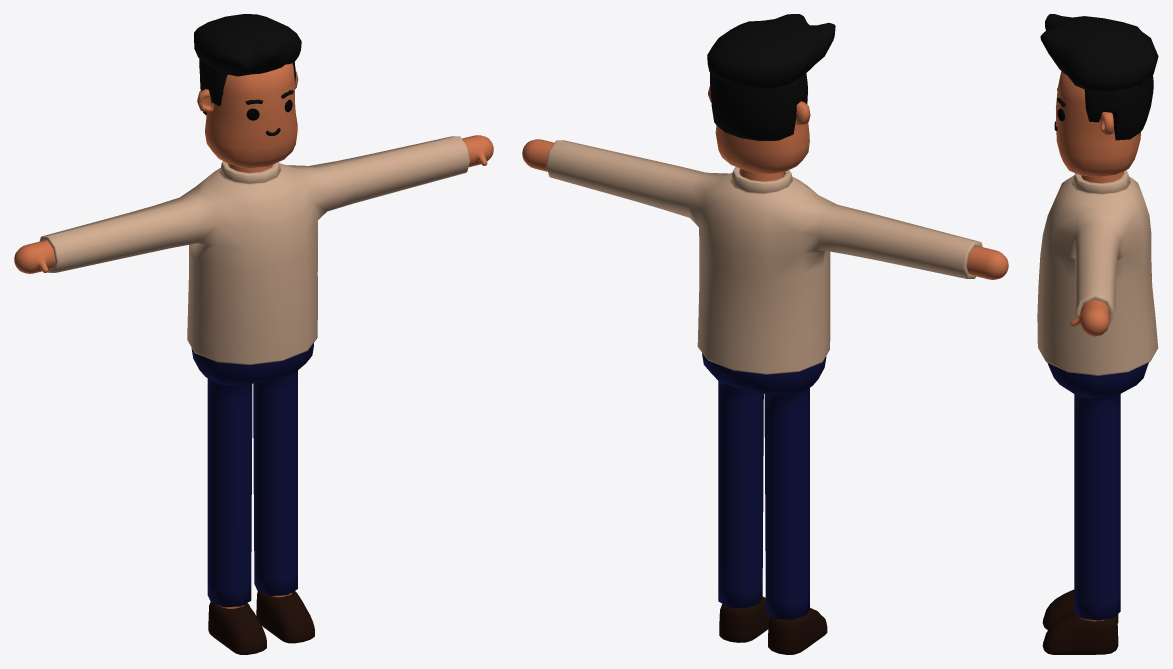
Rendered from male.obj.
3 renders of one model, left to right at view 1: azimuth 30°, elevation 25°; view 2: azimuth 150°, elevation 25°; view 3: azimuth 270°, elevation 25°, orthographic.
Parts seen in each view (by area): view 1: Char_Tshirt, Char_Pant, Char_Head, Char_Hair, Char_Shoe_R, Char_Shoe_L, Char_Hand_R, Char_Hand_L; view 2: Char_Tshirt, Char_Pant, Char_Hair, Char_Head, Char_Shoe_R, Char_Shoe_L, Char_Hand_R, Char_Hand_L; view 3: Char_Tshirt, Char_Pant, Char_Hair, Char_Head, Char_Shoe_L, Char_Hand_L, Char_Shoe_R.
Part boxes in pixels (x1=…): Char_Tshirt: x1=39, y1=136, x2=469, y2=364; Char_Pant: x1=191, y1=343, x2=313, y2=607; Char_Head: x1=197, y1=63, x2=298, y2=172; Char_Hair: x1=194, y1=14, x2=301, y2=114; Char_Shoe_R: x1=208, y1=602, x2=266, y2=654; Char_Shoe_L: x1=256, y1=591, x2=314, y2=643; Char_Hand_R: x1=14, y1=240, x2=55, y2=273; Char_Hand_L: x1=462, y1=135, x2=493, y2=167; Char_Tshirt: x1=546, y1=140, x2=982, y2=374; Char_Pant: x1=702, y1=353, x2=826, y2=619; Char_Hair: x1=707, y1=14, x2=835, y2=141; Char_Head: x1=708, y1=85, x2=810, y2=181; Char_Shoe_R: x1=768, y1=608, x2=827, y2=654; Char_Shoe_L: x1=719, y1=596, x2=770, y2=642; Char_Hand_R: x1=966, y1=246, x2=1008, y2=279; Char_Hand_L: x1=522, y1=139, x2=554, y2=171; Char_Tshirt: x1=1037, y1=170, x2=1158, y2=375; Char_Pant: x1=1047, y1=362, x2=1148, y2=620; Char_Hair: x1=1040, y1=14, x2=1158, y2=140; Char_Head: x1=1056, y1=71, x2=1140, y2=183; Char_Shoe_L: x1=1042, y1=612, x2=1118, y2=654; Char_Hand_L: x1=1070, y1=299, x2=1109, y2=336; Char_Shoe_R: x1=1042, y1=589, x2=1118, y2=629.
Bounding box in the file's own units: 1.4 × 1.7 × 0.3091.
